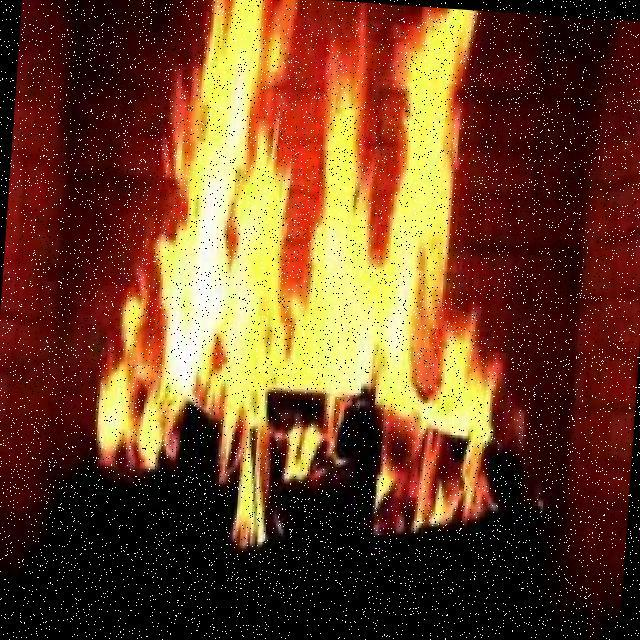Fire: (105, 42, 470, 484)
